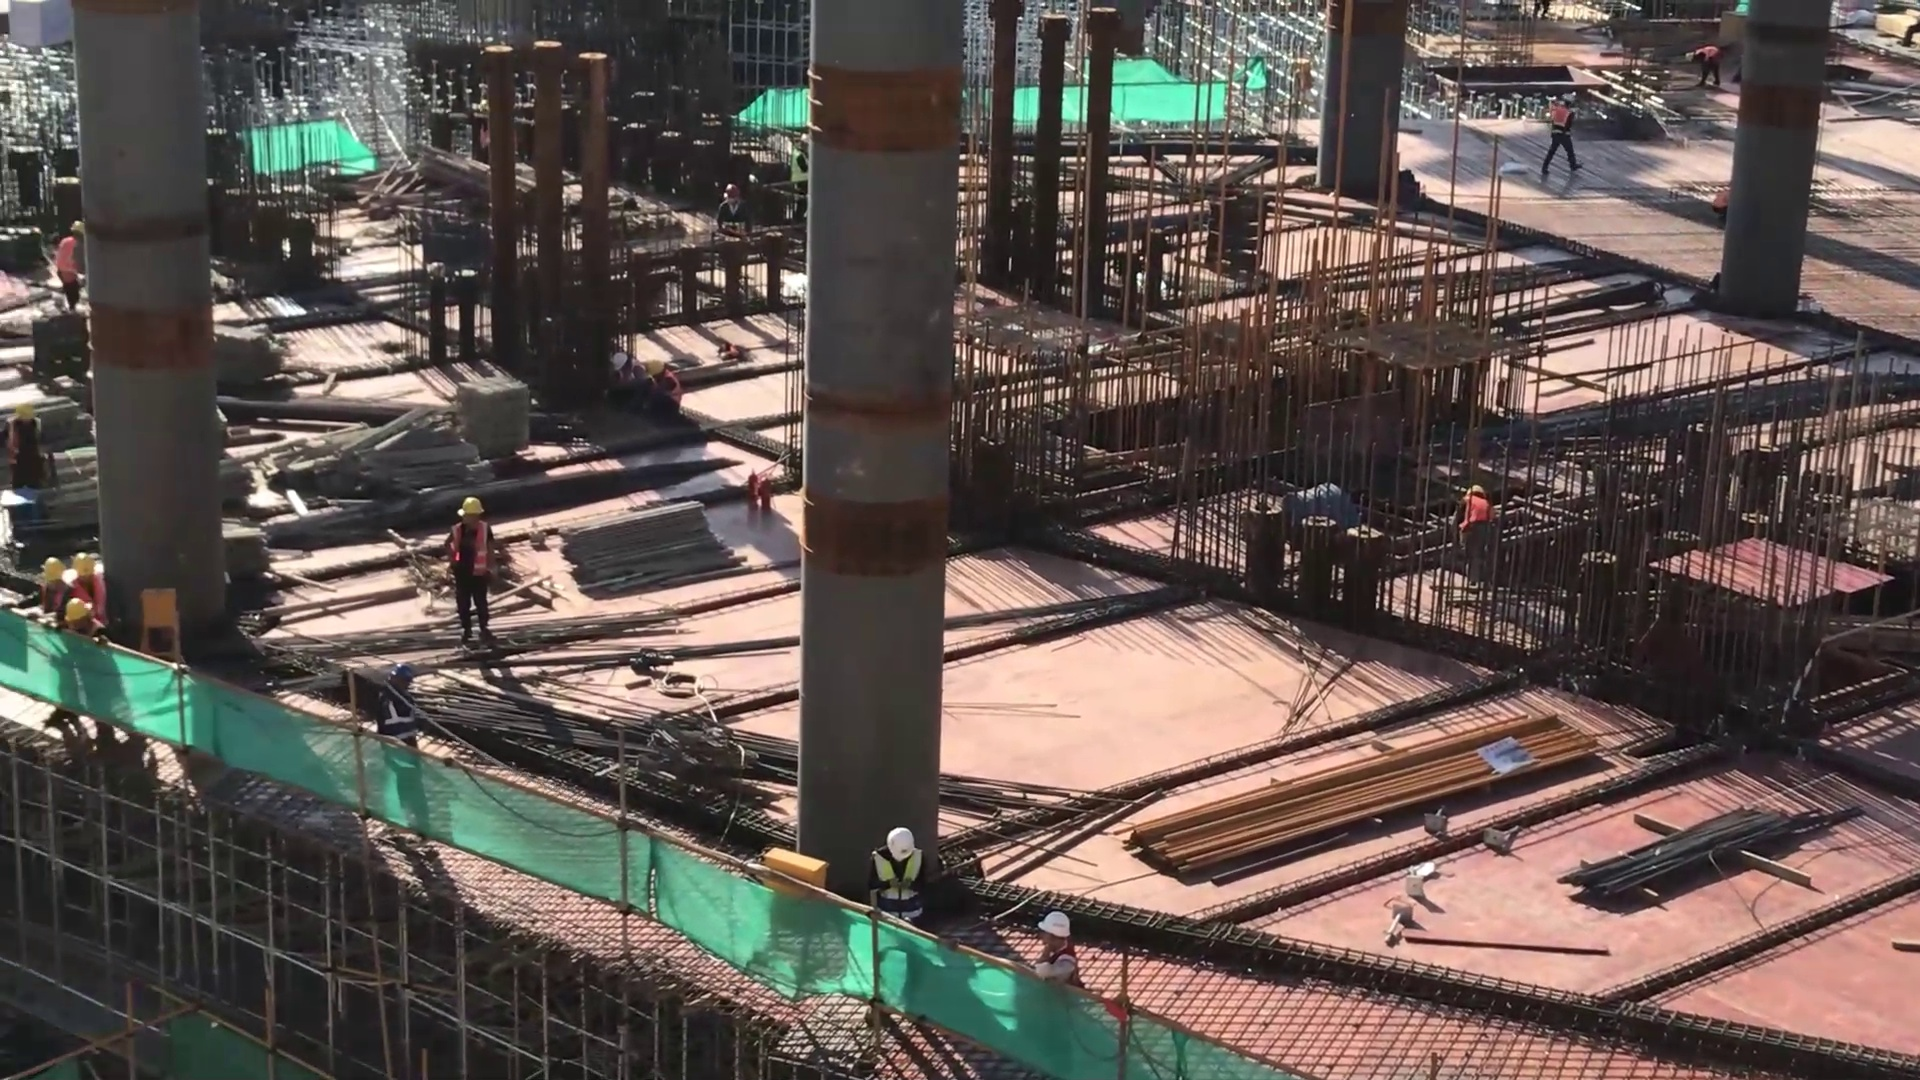ebox: (762, 841, 826, 892)
helmet: (879, 816, 916, 853), (1034, 907, 1064, 944), (637, 358, 667, 383), (457, 494, 485, 521), (387, 660, 413, 684), (11, 398, 36, 425), (42, 552, 64, 581), (66, 602, 91, 626), (1461, 475, 1486, 498), (722, 176, 743, 201), (611, 354, 631, 371), (74, 556, 91, 575), (1560, 91, 1579, 108), (69, 220, 86, 237), (1683, 50, 1697, 67), (795, 133, 811, 148)
person: (442, 490, 498, 650), (864, 822, 926, 931), (1025, 908, 1083, 994), (714, 180, 751, 305), (1450, 476, 1492, 592), (374, 656, 420, 755), (5, 404, 49, 502), (1541, 89, 1582, 181), (17, 553, 69, 623), (51, 216, 82, 317), (1681, 39, 1726, 94), (643, 356, 681, 419), (786, 128, 810, 226), (69, 545, 104, 602)
rebar: (1126, 705, 1593, 860), (417, 664, 800, 823), (1582, 775, 1829, 930)
scaffold: (552, 494, 737, 592)
vest: (872, 860, 914, 911), (451, 522, 489, 571), (379, 686, 409, 737), (5, 431, 36, 473), (70, 575, 107, 603), (56, 237, 79, 279), (37, 580, 63, 617), (789, 149, 809, 192), (1547, 109, 1573, 140), (1461, 498, 1491, 524), (1698, 45, 1723, 63)
